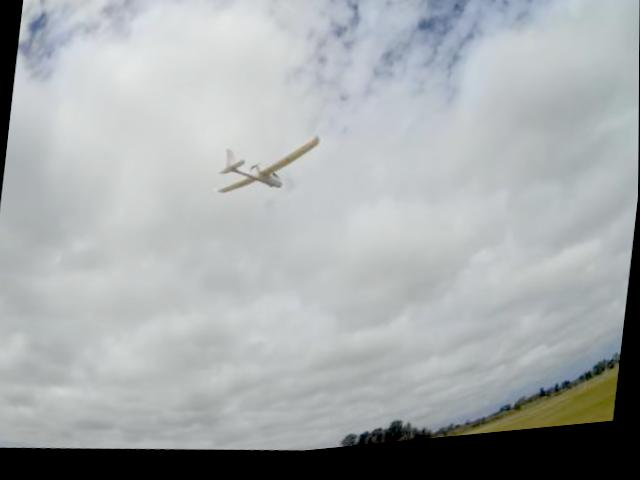uav: (208, 124, 329, 223)
